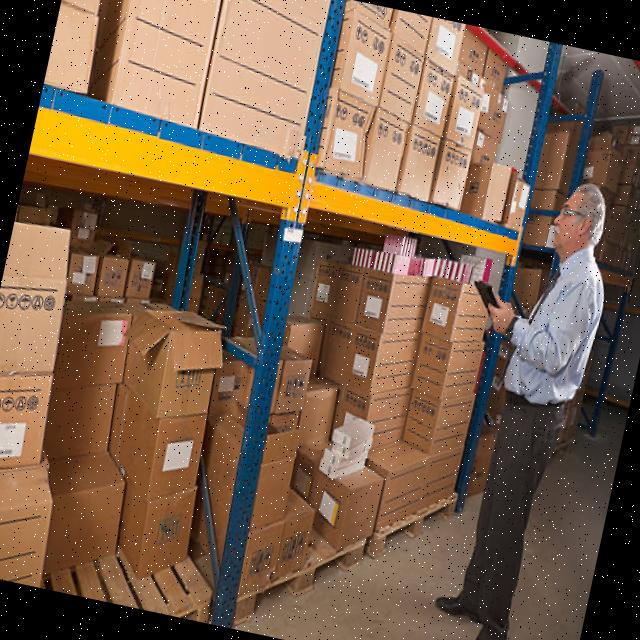Wooden-Pallets: (232, 529, 368, 628), (364, 489, 458, 571)
